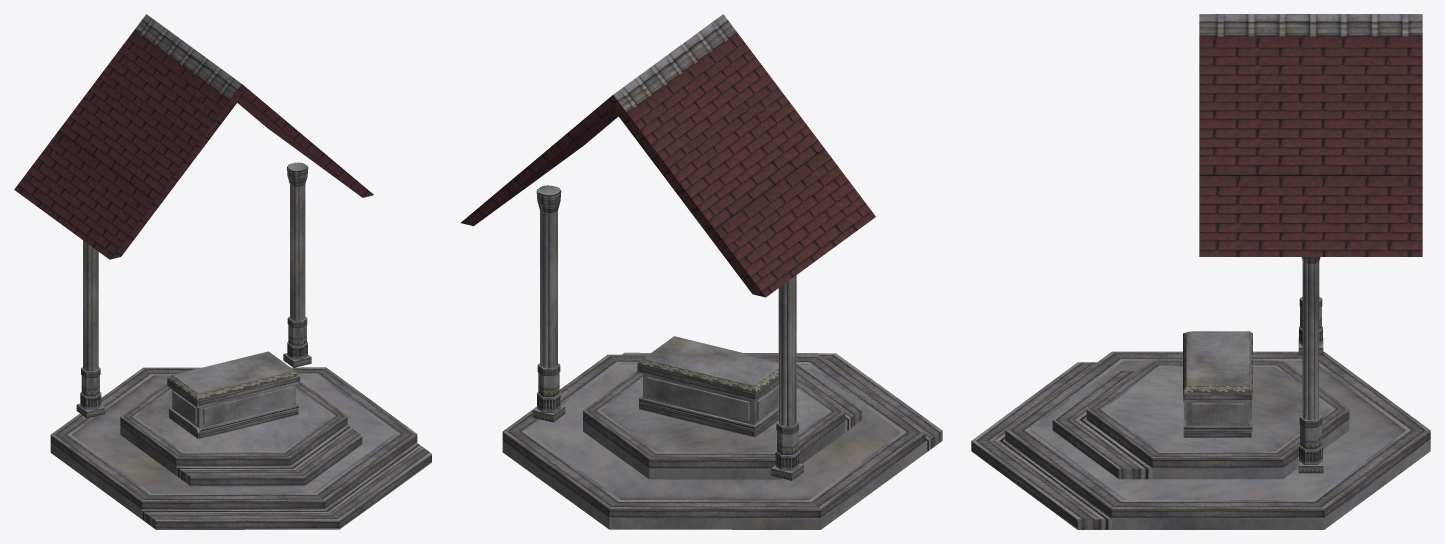
Rendered from Shrine.fbx.
The picture shows the model from 3 angles, left to right: view 1: azimuth 30°, elevation 25°; view 2: azimuth 150°, elevation 25°; view 3: azimuth 270°, elevation 25°; orthographic projection. The views are drawn at different scales.
Visible parts, largest first — view 1: Shrine; view 2: Shrine; view 3: Shrine.
Boxes of the visible parts, x1,y1,x2,y2 form: Shrine: (14, 14, 431, 529); Shrine: (461, 14, 942, 529); Shrine: (971, 14, 1430, 529).
Bounding box in the file's own units: 800 × 1038 × 987.
